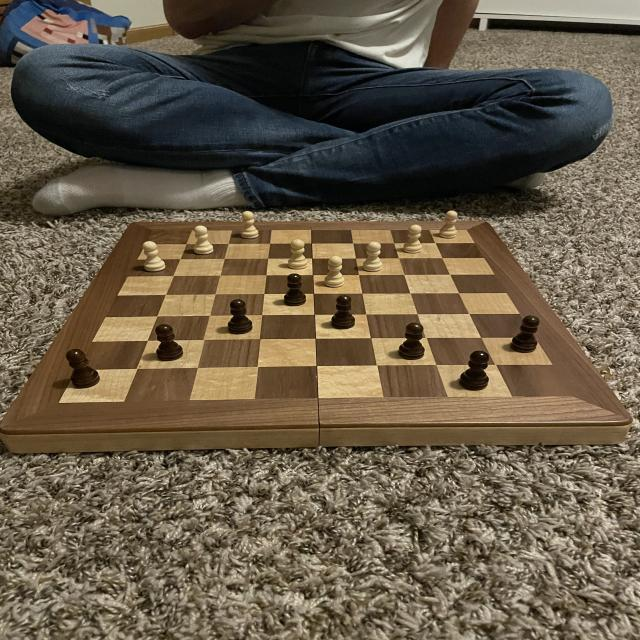black-knight: (60, 345, 102, 393), (456, 349, 493, 392), (393, 322, 431, 362), (508, 313, 543, 356), (150, 321, 184, 365), (220, 297, 256, 335), (327, 294, 359, 331), (280, 272, 308, 308)
white-knight: (138, 238, 168, 274), (321, 254, 348, 288), (361, 239, 386, 275), (283, 238, 310, 271), (436, 208, 462, 242), (191, 224, 217, 257), (401, 221, 426, 254), (235, 210, 261, 240)
